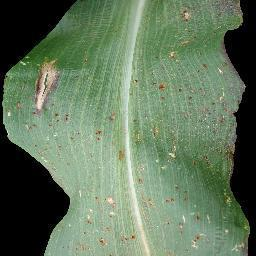Corn_Common_Rust: (128, 99, 256, 169), (0, 54, 66, 122), (192, 30, 254, 101), (136, 173, 209, 219), (168, 1, 250, 37), (212, 166, 255, 231), (18, 119, 71, 159), (149, 222, 202, 256), (130, 67, 176, 106), (84, 194, 208, 206), (67, 230, 116, 256), (73, 204, 114, 235), (151, 37, 191, 61), (217, 234, 256, 256), (73, 122, 108, 145), (106, 139, 130, 170), (119, 220, 141, 250), (100, 101, 118, 128), (177, 69, 187, 101), (82, 56, 94, 71)
